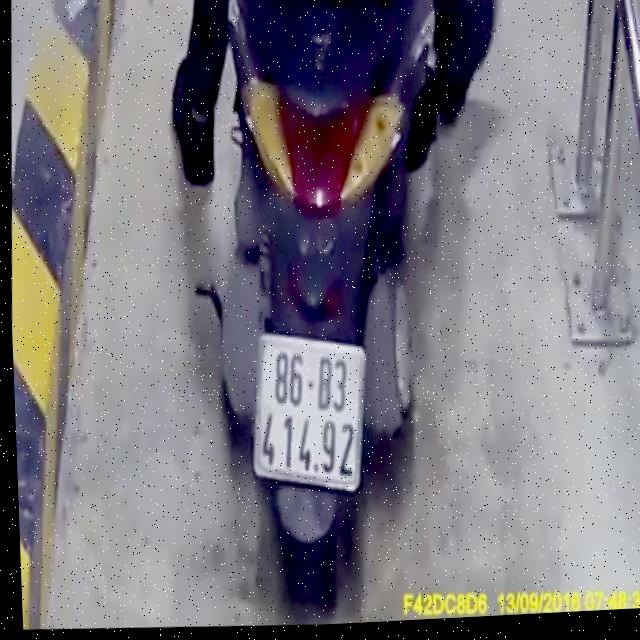motorcycle: (177, 0, 466, 627)
plate: (241, 327, 375, 500)
